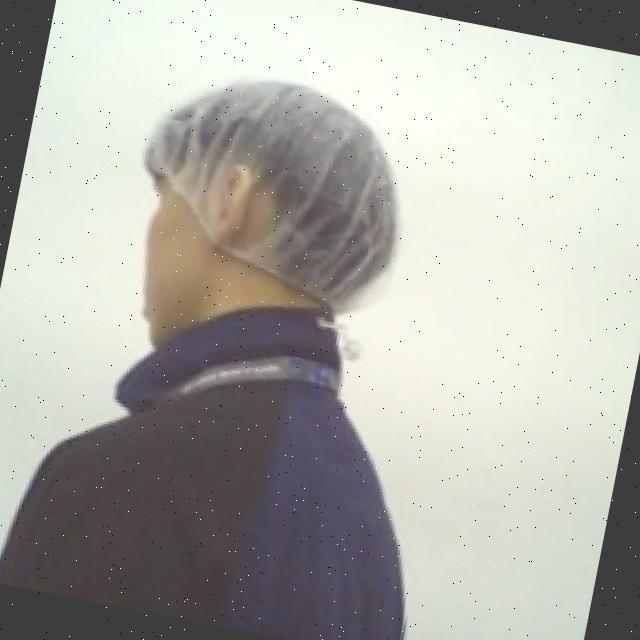gloves: (114, 52, 429, 333)
